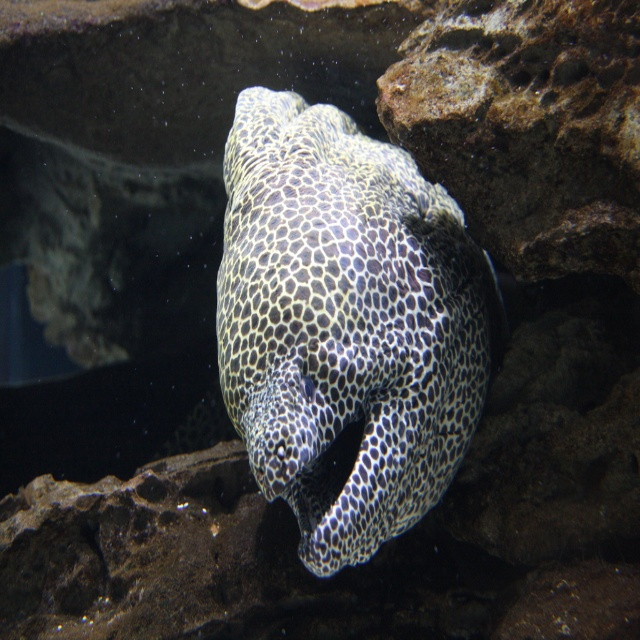Fish: (216, 86, 510, 578)
